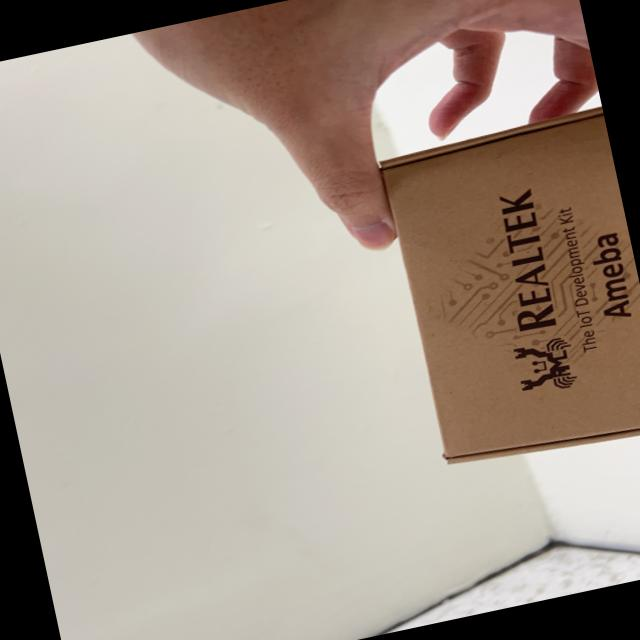box: (349, 85, 640, 511)
